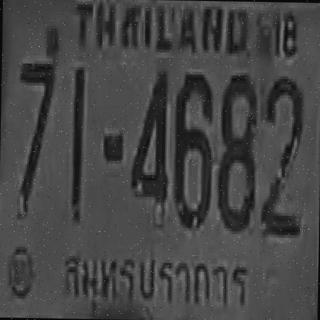N01: (70, 66, 84, 222)
N02: (259, 74, 303, 236)
N04: (129, 66, 168, 212)
N06: (172, 70, 212, 226)
N07: (16, 59, 54, 213)
N08: (216, 70, 257, 230)
P57: (57, 237, 252, 313)
